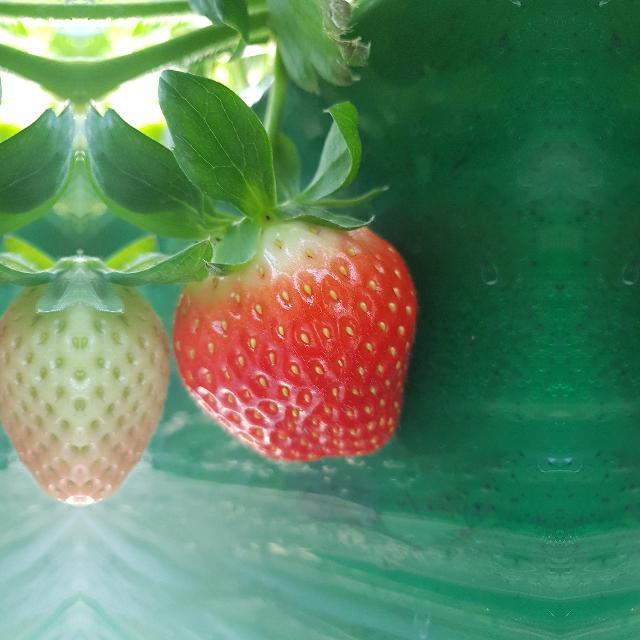Health_100: (169, 218, 415, 462)
Health_50: (80, 261, 168, 505), (0, 261, 80, 505)
